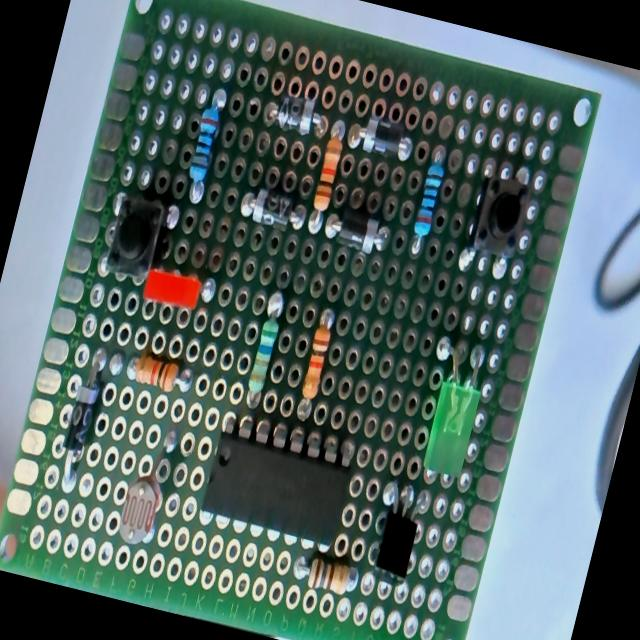IC: (198, 424, 358, 546)
cds: (113, 426, 178, 550)
diode: (52, 348, 110, 490), (346, 110, 418, 164), (239, 185, 308, 234), (323, 205, 388, 256), (268, 90, 331, 138)
led: (417, 336, 492, 481), (140, 264, 203, 314)
resistor: (243, 290, 287, 402), (304, 129, 347, 234), (296, 308, 338, 407), (408, 155, 448, 254), (183, 98, 224, 192), (291, 551, 359, 598), (124, 352, 193, 396)
switch: (455, 164, 535, 279), (98, 180, 177, 292)
transistor: (363, 478, 429, 590)
